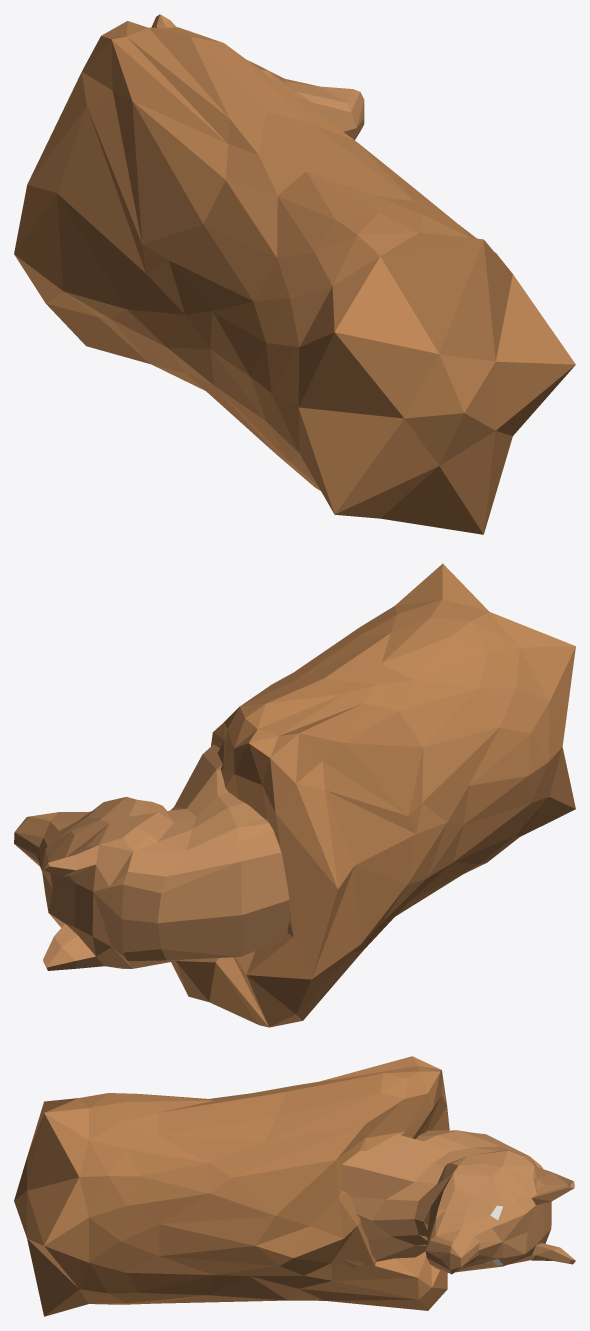
The model's file is Wolf Totem.fbx.
3 views of the same model, one above another, from view 1: azimuth 30°, elevation 25°; view 2: azimuth 150°, elevation 25°; view 3: azimuth 270°, elevation 25° (orthographic). The views are drawn at different scales.
Visible parts, largest first — view 1: Icosphere.007; view 2: Icosphere.007; view 3: Icosphere.007.
Boxes of the visible parts, x1,y1,x2,y2 form: Icosphere.007: (14,14,575,534); Icosphere.007: (14,563,575,1027); Icosphere.007: (14,1056,575,1316).
Size of the model in its own units: 1136 by 561 by 508.
2 materials, 1 textured.
